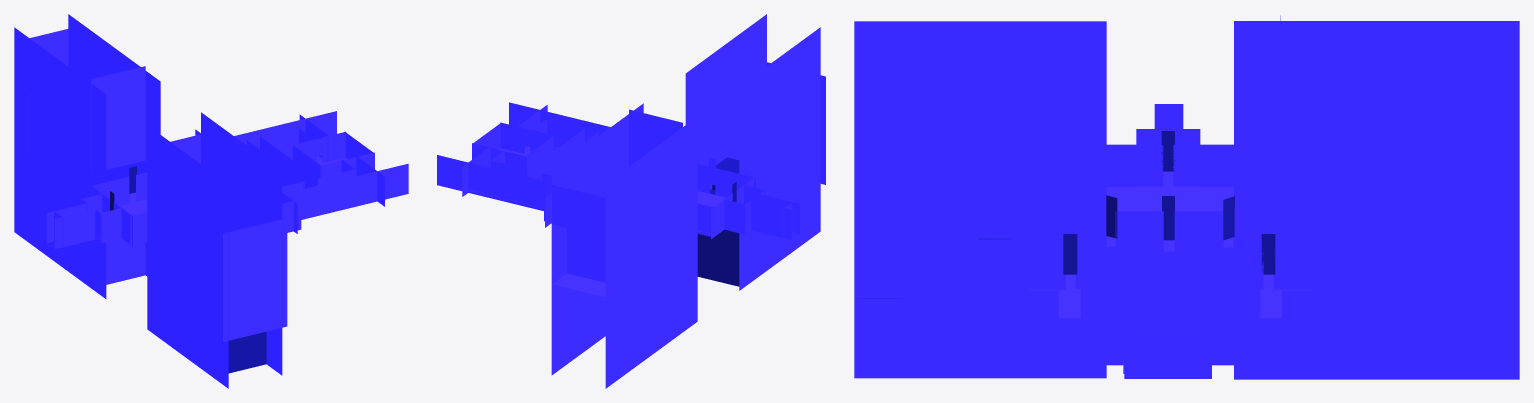
The model's file is techdungeon2.fbx.
3 renders of one model, left to right at view 1: azimuth 30°, elevation 25°; view 2: azimuth 150°, elevation 25°; view 3: azimuth 270°, elevation 25°, orthographic. The views are drawn at different scales.
Parts seen in each view (by area): view 1: floor; view 2: floor; view 3: floor.
Part boxes in pixels (left/top/right/bottom): floor: left=14, top=14, right=408, bottom=388; floor: left=437, top=14, right=825, bottom=388; floor: left=854, top=15, right=1519, bottom=379.
Size of the model in its own units: 28891 by 17937 by 33313.
